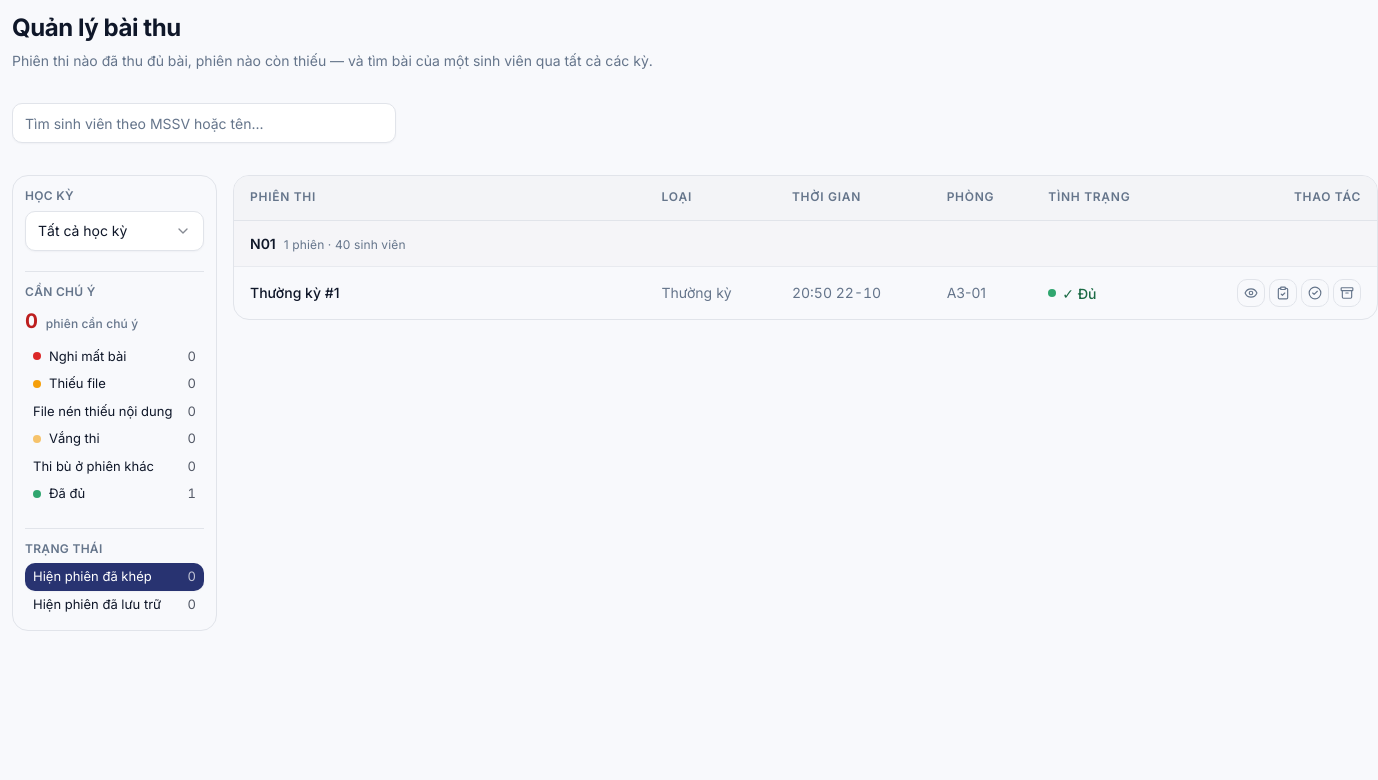
Test: SubmissionsPage — search theo sinh viên › empty state không còn thú nhận điểm mù đã được vá
In the field labelled "Tìm sinh viên theo MSSV hoặc tên": (204, 123) top-left (12, 103), bottom-right (396, 143), type "khongton"
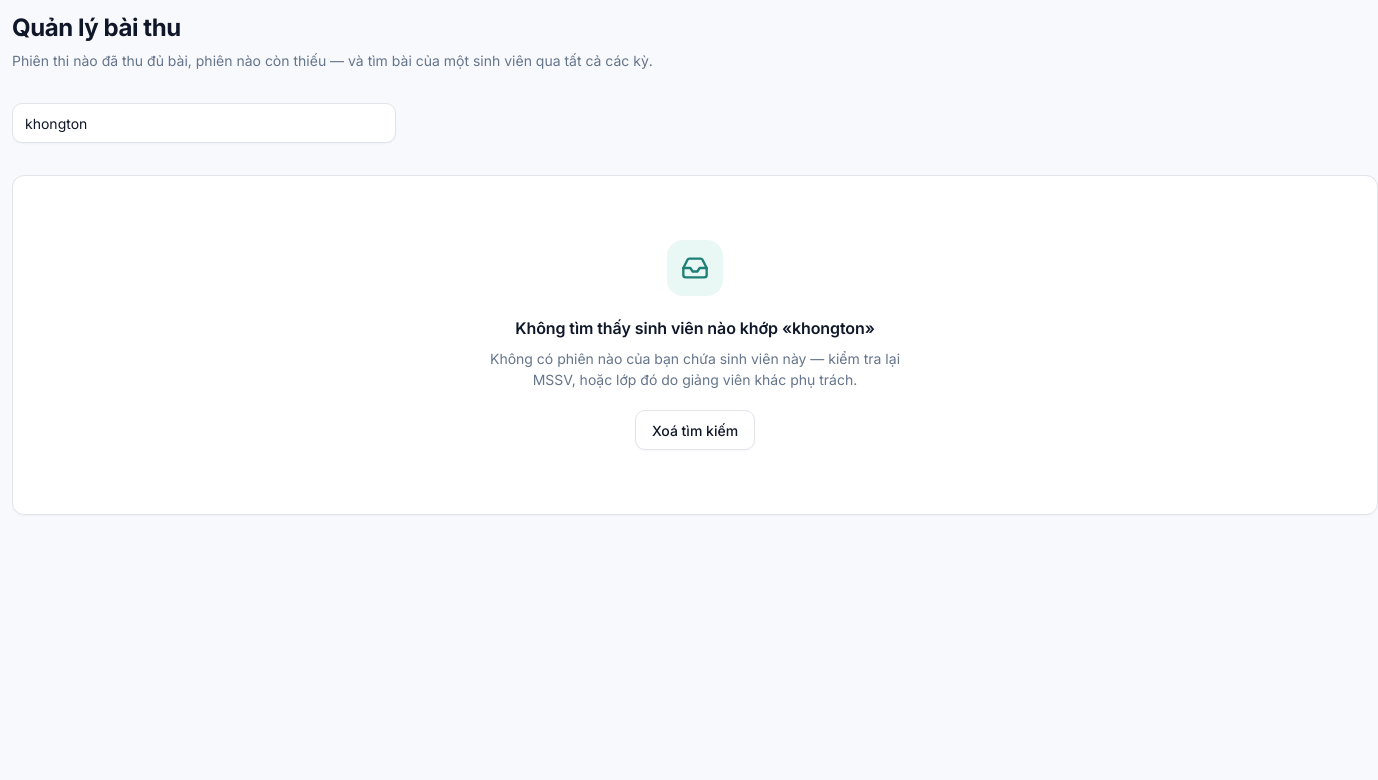
Now the text "Không có phiên nào của bạn chứa sinh viên này" is shown, box top-left (490, 350), bottom-right (900, 388)
